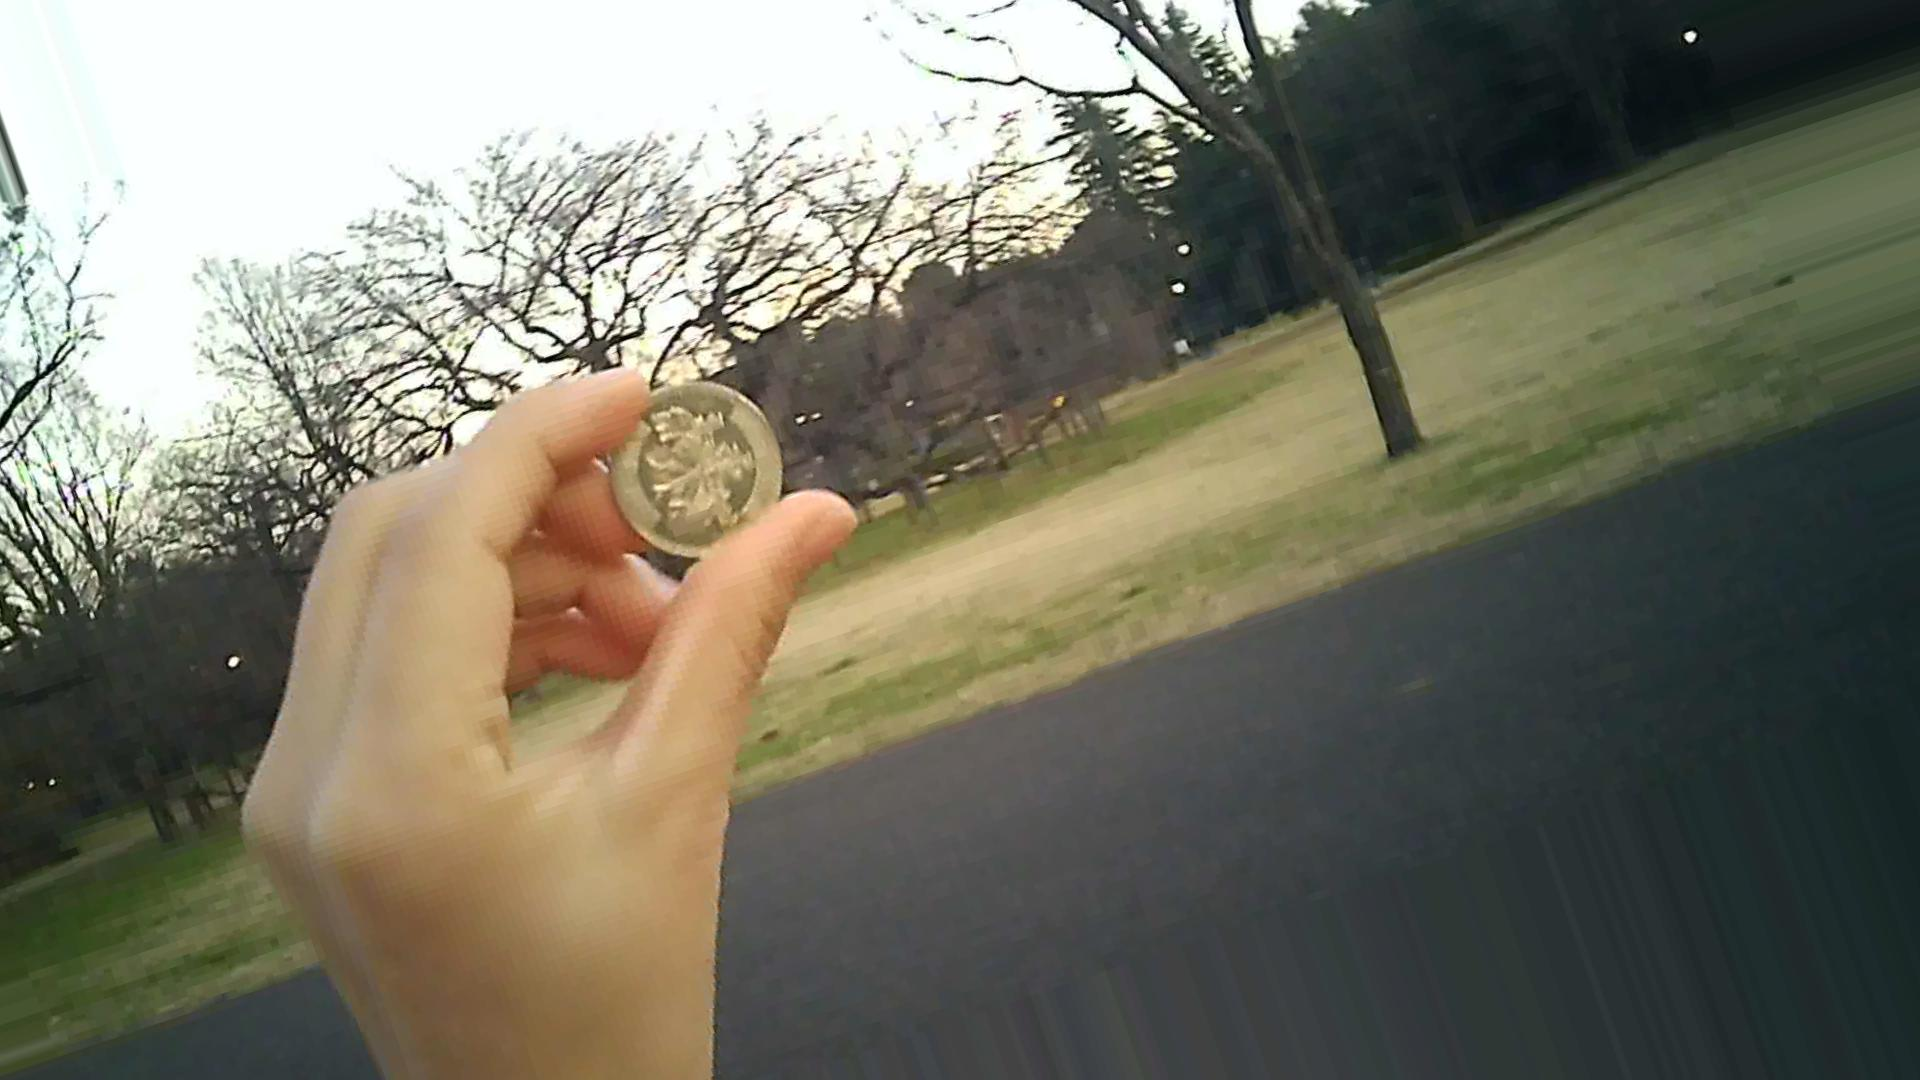500 Yen: (582, 357, 793, 556)
